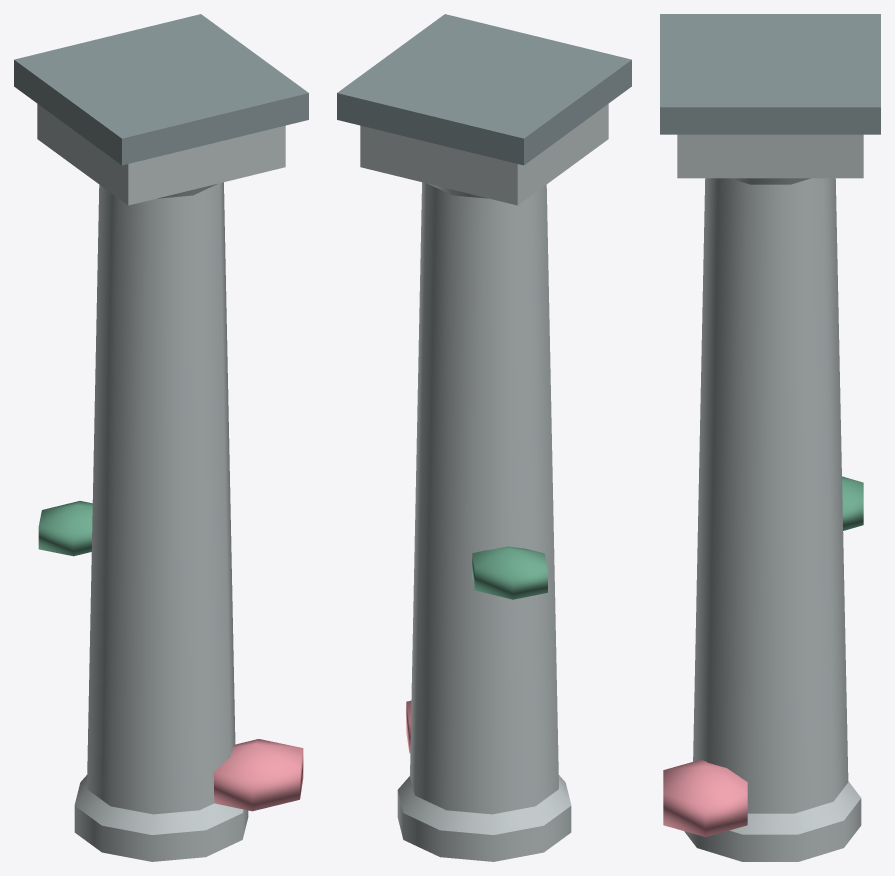
Rendered from sunken-city-and-underwater-ruins-standing-column-96caec95__36954.glb.
3 views of the same model, side by side, from view 1: azimuth 30°, elevation 25°; view 2: azimuth 150°, elevation 25°; view 3: azimuth 270°, elevation 25° (orthographic). The views are drawn at different scales.
Visible parts, largest first — view 1: standing-column; view 2: standing-column; view 3: standing-column.
Part boxes in pixels (x1,y1,x2,y2): standing-column: (14,14,308,861); standing-column: (337,14,631,861); standing-column: (660,14,880,861).
Bounding box in the file's own units: 1.11 × 3.9 × 1.02.
